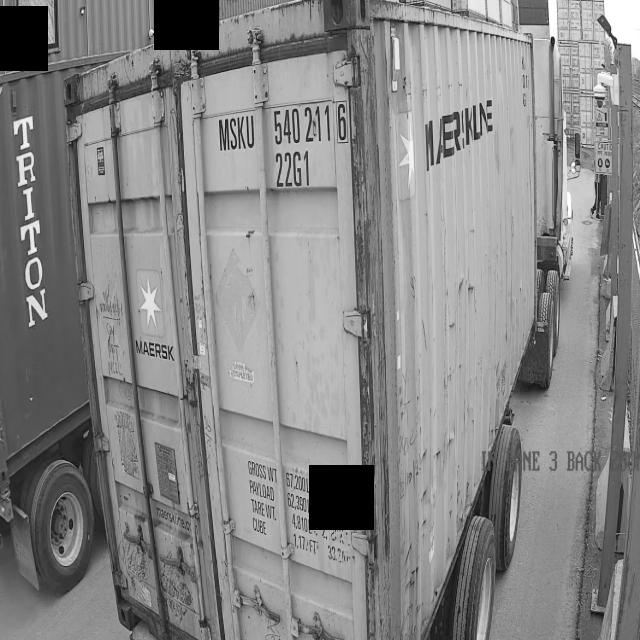container_company_logo: (7, 110, 63, 335), (420, 83, 505, 174), (128, 245, 184, 373)
container_number: (215, 97, 356, 198)
other_container_info: (240, 437, 358, 569)
truck_with_container: (65, 0, 572, 640), (0, 56, 113, 590)
